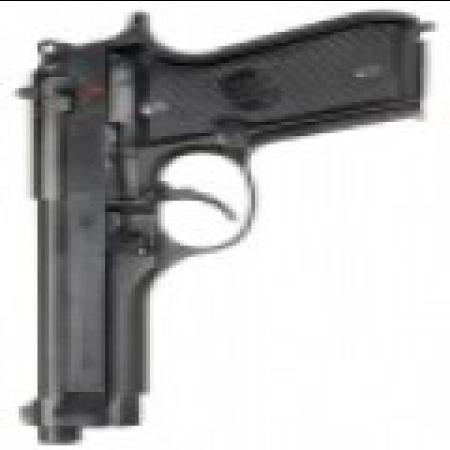Pistol: (7, 20, 428, 444)
